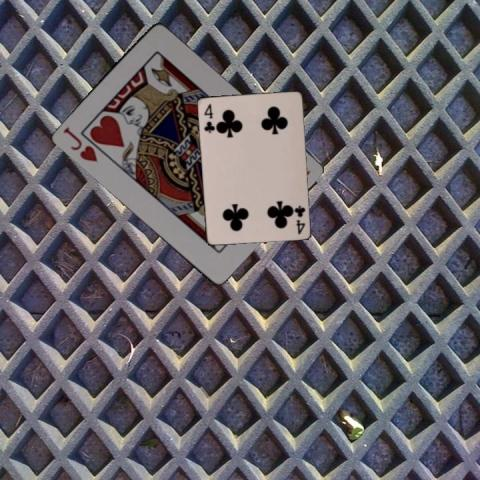4c: (291, 202, 306, 235), (201, 101, 215, 134)
Jh: (60, 123, 100, 164)
